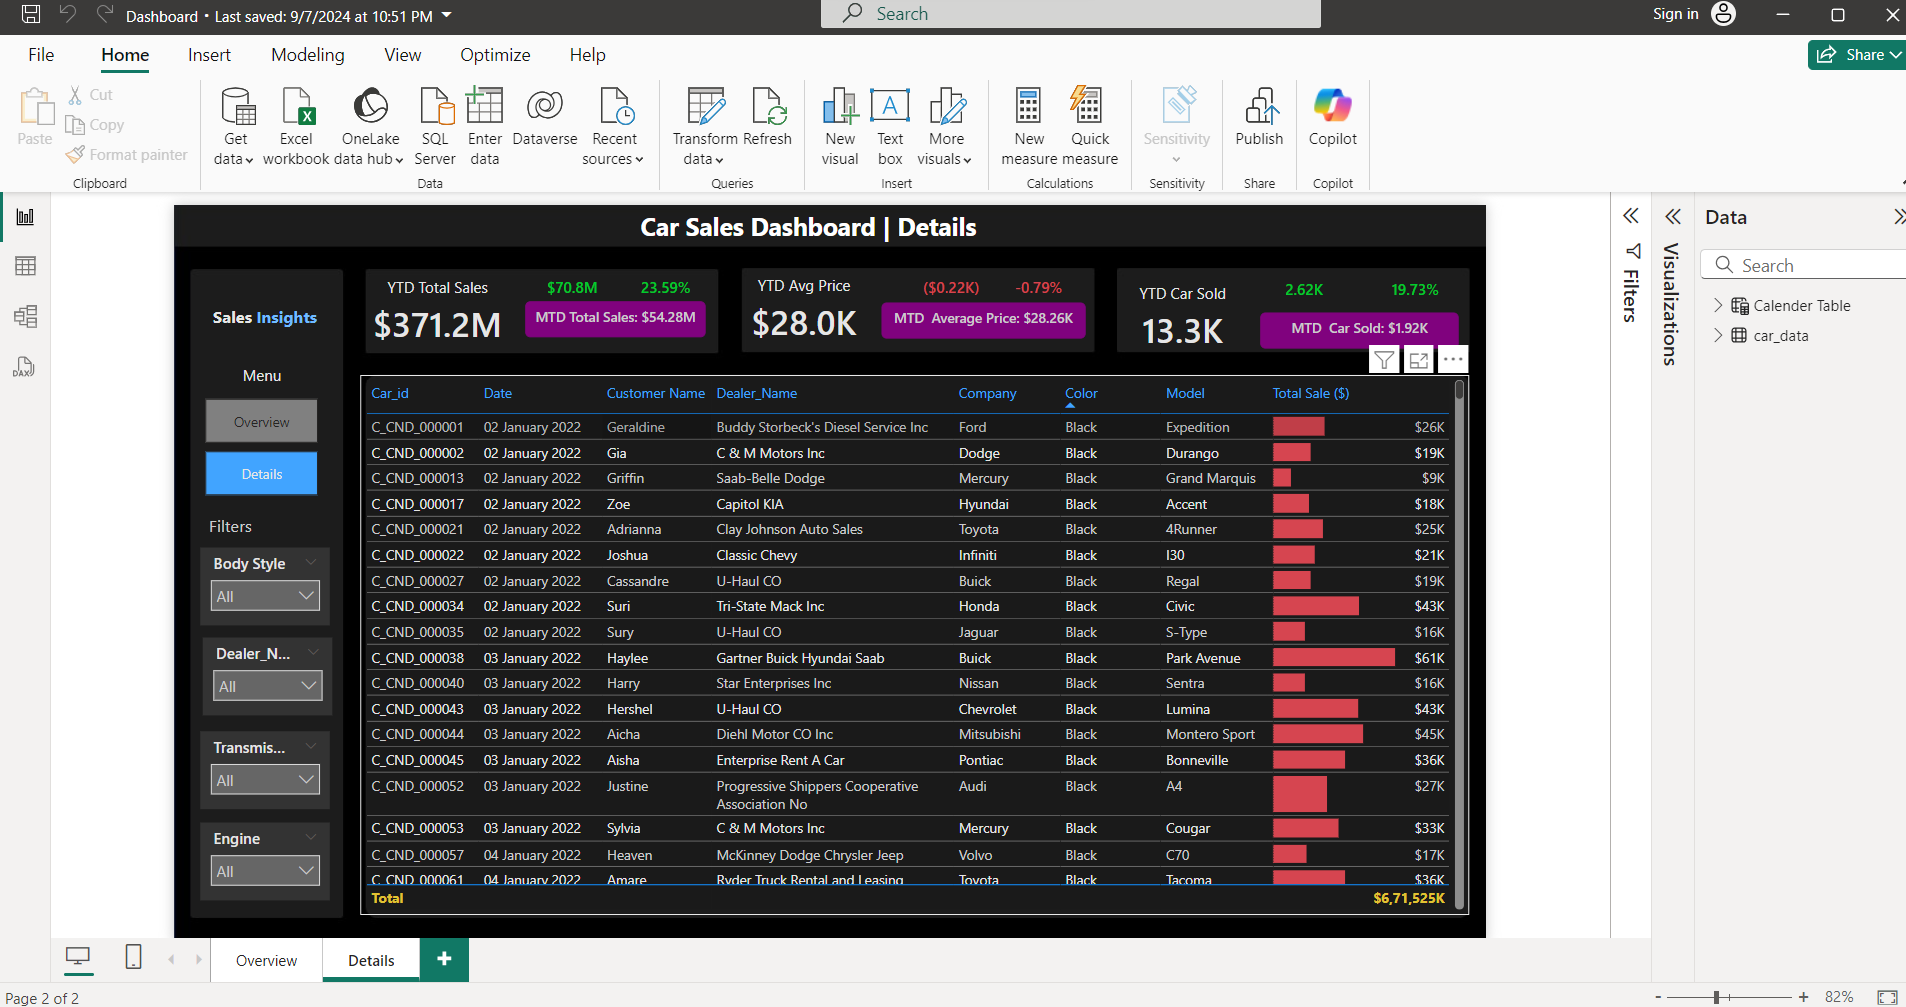

Layout of this report page (visuals, bound fields, positions):
{"tool":"powerbi","page":{"name":"Details","canvas":[1280,720],"ordinal":1},"visuals":[{"type":"card","title":"YTD Total Sales","fields":{"Values":["car_data.YTD Total Sales"]},"box":[182,69,151,73],"z":0},{"type":"card","fields":{"Values":["car_data.Sales Difference"]},"box":[346,68,85,26],"z":1000},{"type":"card","fields":{"Values":["car_data.YoY sales Growth"]},"box":[442,68,77,26],"z":2000},{"type":"card","fields":{"Values":["car_data.MTD KPI"]},"box":[343,94,176,35],"z":3000},{"type":"card","title":"YTD Avg Price","fields":{"Values":["car_data.YTD Avg Price"]},"box":[538.5,67.9,151.3,73.1],"z":4000},{"type":"card","fields":{"Values":["car_data.Avg Price Diff"]},"box":[716,68,85,26],"z":5000},{"type":"card","fields":{"Values":["car_data.YoY Avg Price Growth"]},"box":[801,68,85,26],"z":6000},{"type":"card","fields":{"Values":["car_data.MTD Avg Price KPI"]},"box":[690.6,95.3,198.8,35.3],"z":7000},{"type":"card","title":"YTD Car Sold","fields":{"Values":["car_data.YTD Car Sold"]},"box":[909,75.6,151.3,73.1],"z":8000},{"type":"card","fields":{"Values":["car_data.Car Sold Diff"]},"box":[1060.3,69.2,85.9,25.6],"z":9000},{"type":"card","fields":{"Values":["car_data.YoY Car Sold Growth"]},"box":[1167.9,69.2,85.9,25.6],"z":10000},{"type":"card","fields":{"Values":["car_data.MTD Car Sold KPI"]},"box":[1060.2,104.8,194,34.9],"z":11000},{"type":"textbox","box":[449.4,0,381.9,45.8],"z":12000},{"type":"slicer","fields":{"Values":["car_data.Body Style"]},"box":[25.3,333.7,126.5,75.9],"z":13000},{"type":"slicer","fields":{"Values":["car_data.Dealer_Name"]},"box":[27.7,421.7,126.5,75.9],"z":14000},{"type":"slicer","fields":{"Values":["car_data.Transmission"]},"box":[25.3,513.3,126.5,75.9],"z":15000},{"type":"slicer","fields":{"Values":["car_data.Engine"]},"box":[25.3,602.4,126.5,75.9],"z":16000},{"type":"textbox","box":[24.1,296.4,61.4,37.3],"z":17000},{"type":"tableEx","fields":{"Values":["car_data.Car_id","car_data.Date","car_data.Customer Name","car_data.Dealer_Name","car_data.Company","car_data.Color","car_data.Model","car_data.Price ($)"]},"box":[181.9,166.3,1081.9,526.5],"z":18000},{"type":"pageNavigator","box":[30.1,189.2,110.8,95.2],"z":19000},{"type":"textbox","box":[30.1,151.8,110.8,37.3],"z":20000},{"type":"textbox","box":[26.5,92.8,124.1,37.3],"z":21000}]}

Visuals, with their boxes on the page's 1280x720 design canvas (x1, y1, x2, y2). These are canvas units, not pixel positions in the 1906x1007 screenshot, which may show the page scaled, cropped or inside an application window:
"YTD Total Sales" card: BBox(182, 69, 333, 142)
card - car_data.Sales Difference: BBox(346, 68, 431, 94)
card - car_data.YoY sales Growth: BBox(442, 68, 519, 94)
card - car_data.MTD KPI: BBox(343, 94, 519, 129)
"YTD Avg Price" card: BBox(538, 68, 690, 141)
card - car_data.Avg Price Diff: BBox(716, 68, 801, 94)
card - car_data.YoY Avg Price Growth: BBox(801, 68, 886, 94)
card - car_data.MTD Avg Price KPI: BBox(691, 95, 889, 131)
"YTD Car Sold" card: BBox(909, 76, 1060, 149)
card - car_data.Car Sold Diff: BBox(1060, 69, 1146, 95)
card - car_data.YoY Car Sold Growth: BBox(1168, 69, 1254, 95)
card - car_data.MTD Car Sold KPI: BBox(1060, 105, 1254, 140)
textbox: BBox(449, 0, 831, 46)
slicer - car_data.Body Style: BBox(25, 334, 152, 410)
slicer - car_data.Dealer_Name: BBox(28, 422, 154, 498)
slicer - car_data.Transmission: BBox(25, 513, 152, 589)
slicer - car_data.Engine: BBox(25, 602, 152, 678)
textbox: BBox(24, 296, 86, 334)
tableEx - car_data.Car_id x car_data.Date: BBox(182, 166, 1264, 693)
pageNavigator: BBox(30, 189, 141, 284)
textbox: BBox(30, 152, 141, 189)
textbox: BBox(26, 93, 151, 130)
